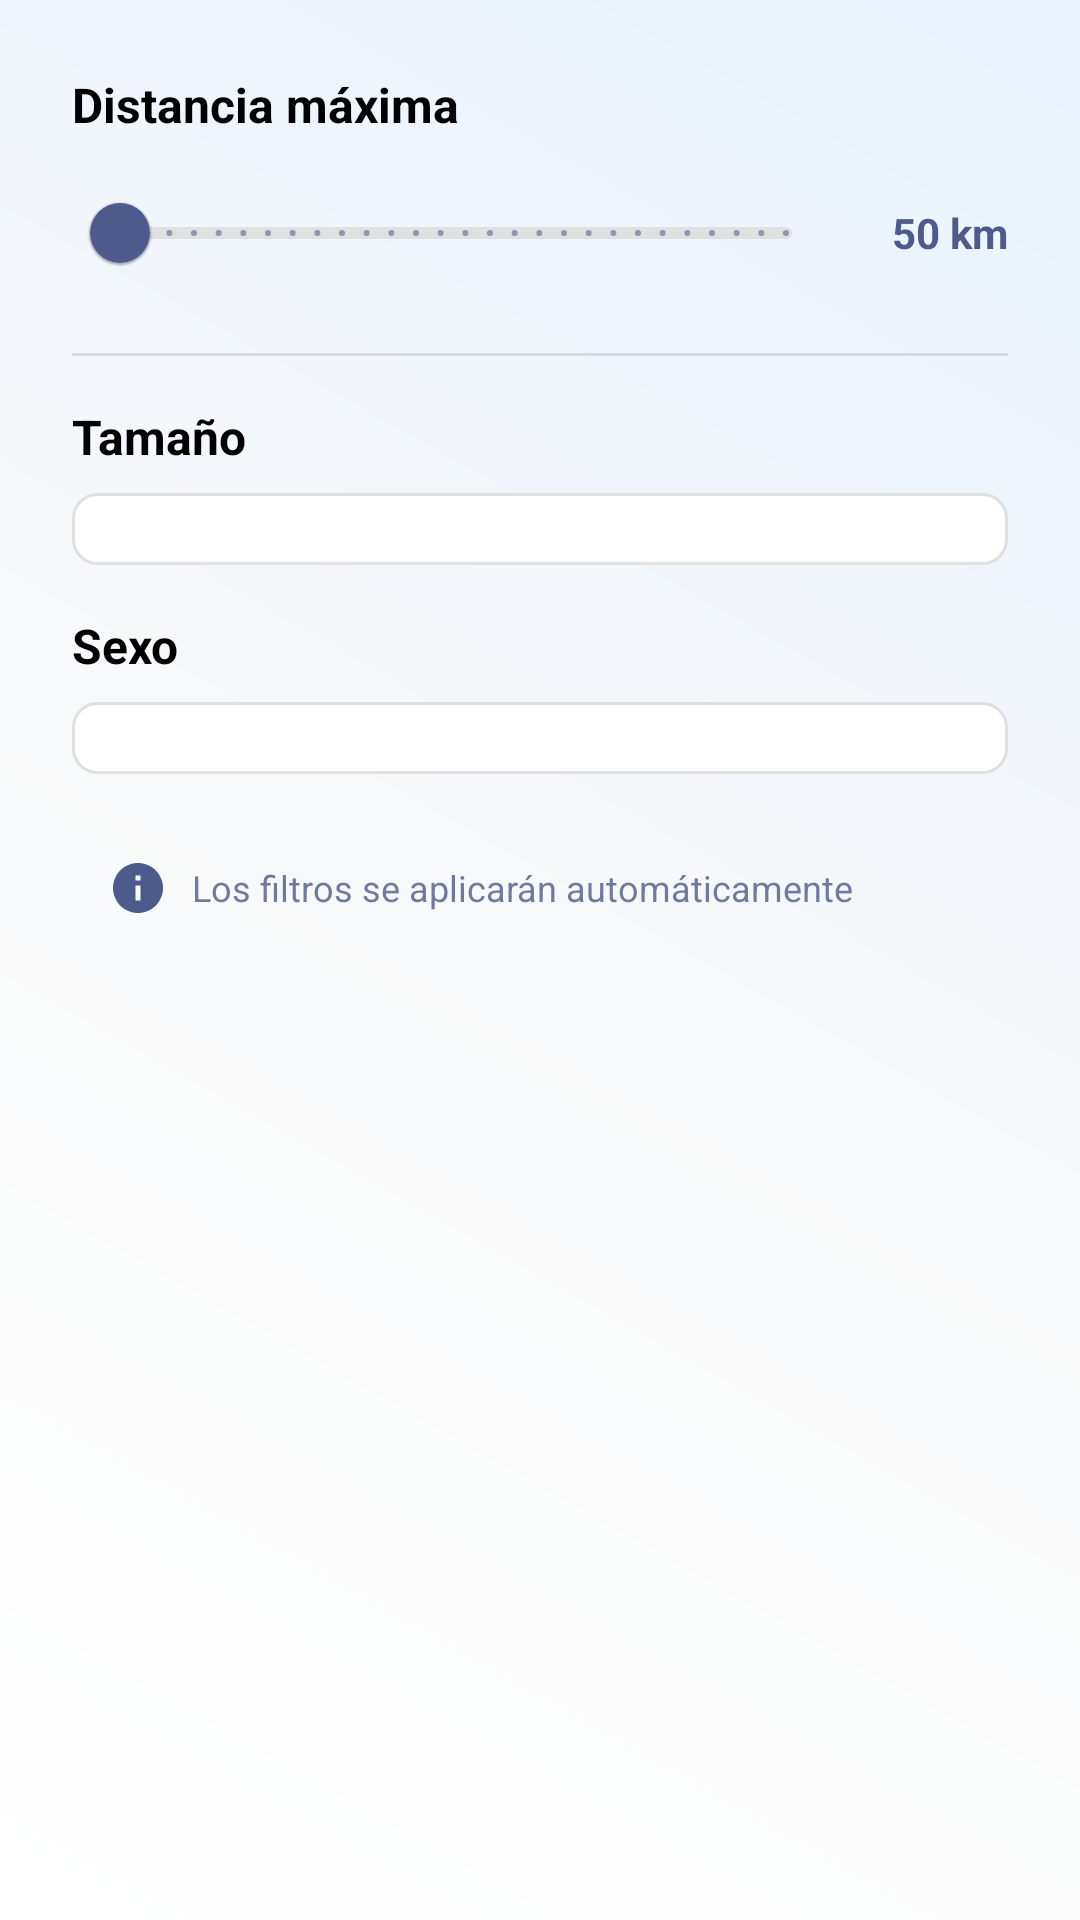

Icon click points for this 1080 x 1920 phone screenshot, format [x,y]:
info: [138,888]
